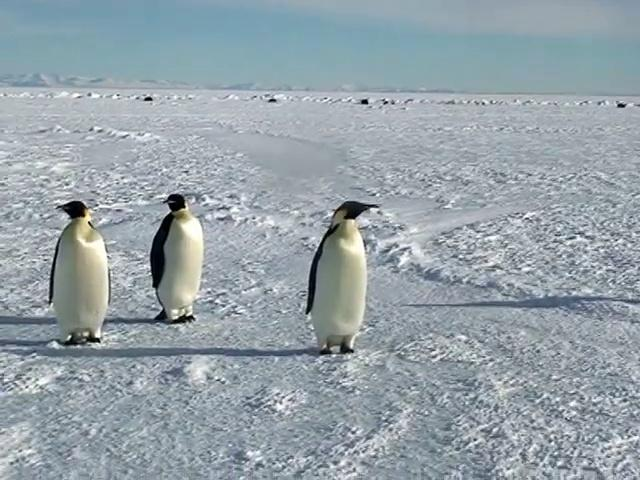animal: (306, 201, 377, 353)
